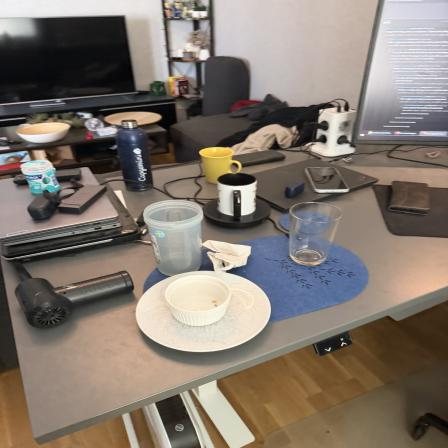blue_bottle: (115, 118, 157, 194)
phone: (389, 177, 433, 215), (303, 164, 351, 196), (226, 146, 286, 169)
yellow_cup: (198, 145, 246, 186)
